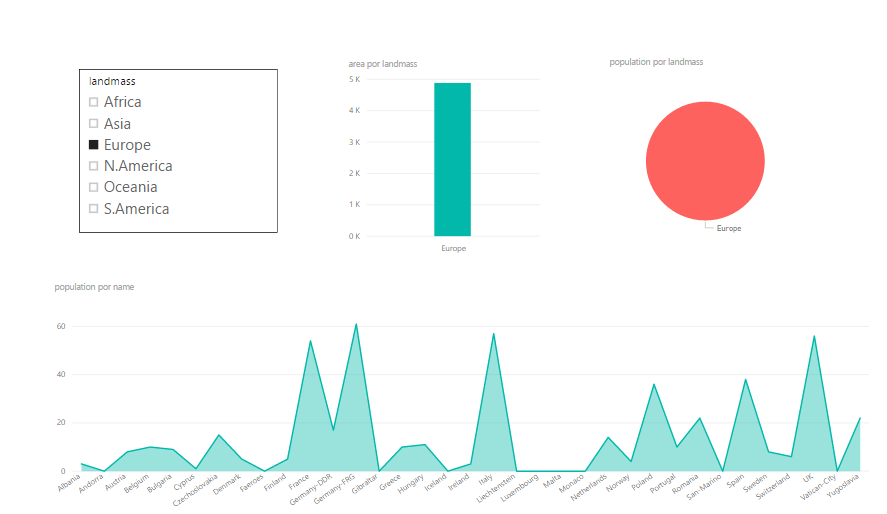

Layout of this report page (visuals, bound fields, positions):
{"tool":"powerbi","page":{"name":"Página 3","canvas":[1280,720],"ordinal":2},"visuals":[{"type":"slicer","fields":{"Values":["flagsdw dim_landmass.landmass"]},"box":[124,83.1,280.4,231.1],"z":1},{"type":"columnChart","fields":{"Category":["flagsdw dim_landmass.landmass"],"Y":["Sum(flagsdw dim_country.area)"]},"box":[498.8,67.6,280.4,280.4],"z":2},{"type":"areaChart","fields":{"Category":["flagsdw dim_country.name"],"Y":["Sum(flagsdw dim_country.population)"]},"box":[84.5,381.8,1158.2,329.7],"z":3},{"type":"pieChart","fields":{"Category":["flagsdw dim_landmass.landmass"],"Y":["Sum(flagsdw dim_country.population)"]},"box":[866.5,64.8,280.4,280.4],"z":4}]}

Visuals, with their boxes in screenshot pixels (x1, y1, x2, y2), scaled from the page's 1280x720 canvas onto the 887x514 screenshot:
slicer - flagsdw dim_landmass.landmass: [86, 59, 280, 224]
columnChart - flagsdw dim_landmass.landmass x Sum(flagsdw dim_country.area): [346, 48, 540, 248]
areaChart - flagsdw dim_country.name x Sum(flagsdw dim_country.population): [59, 273, 861, 508]
pieChart - flagsdw dim_landmass.landmass x Sum(flagsdw dim_country.population): [600, 46, 795, 246]
